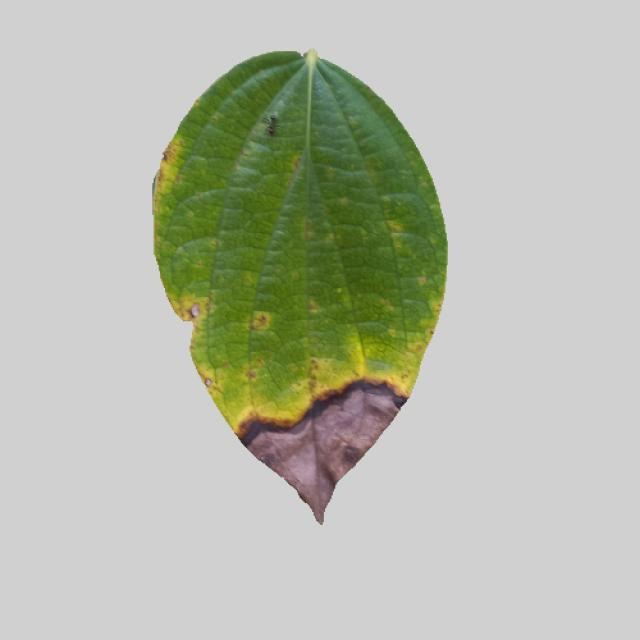leaf-blight: (141, 55, 458, 521)
